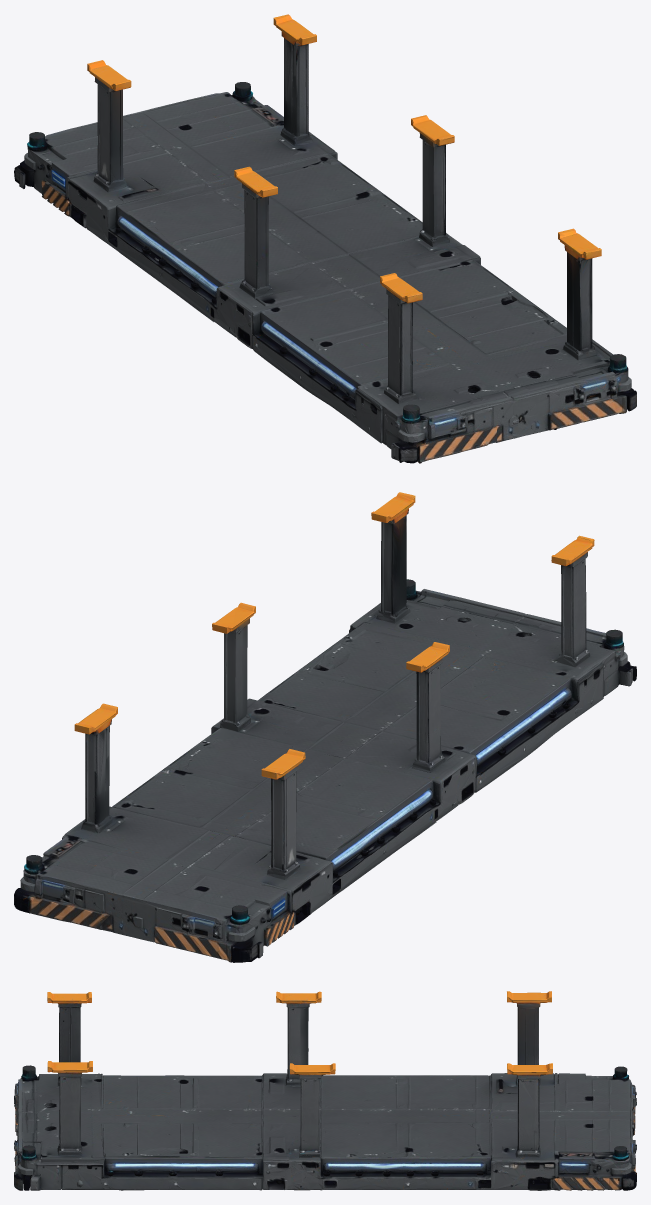
File: carrier.glb
The picture shows the model from 3 angles, top to bottom: view 1: azimuth 30°, elevation 25°; view 2: azimuth 150°, elevation 25°; view 3: azimuth 270°, elevation 25°; orthographic projection. The views are drawn at different scales.
Bounding box in the file's own units: 0.3516 × 0.2116 × 1.
1 material, 1 textured.
